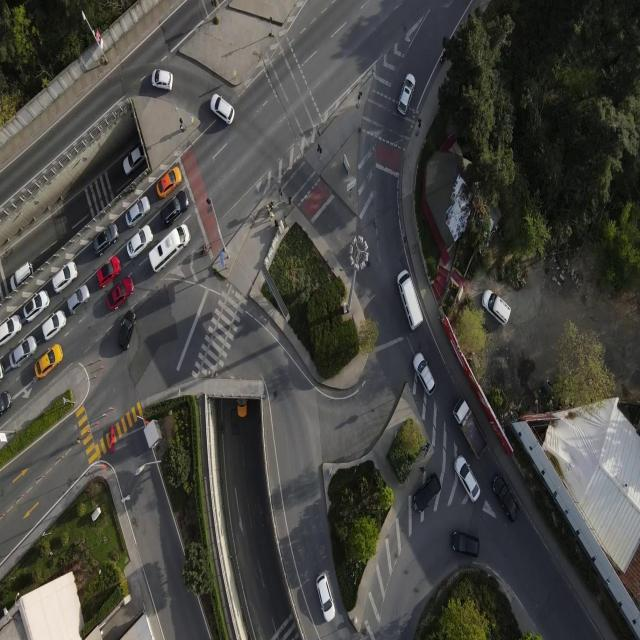p3rson: (266, 204, 271, 215), (179, 124, 185, 133), (274, 219, 278, 228), (270, 210, 273, 221)
